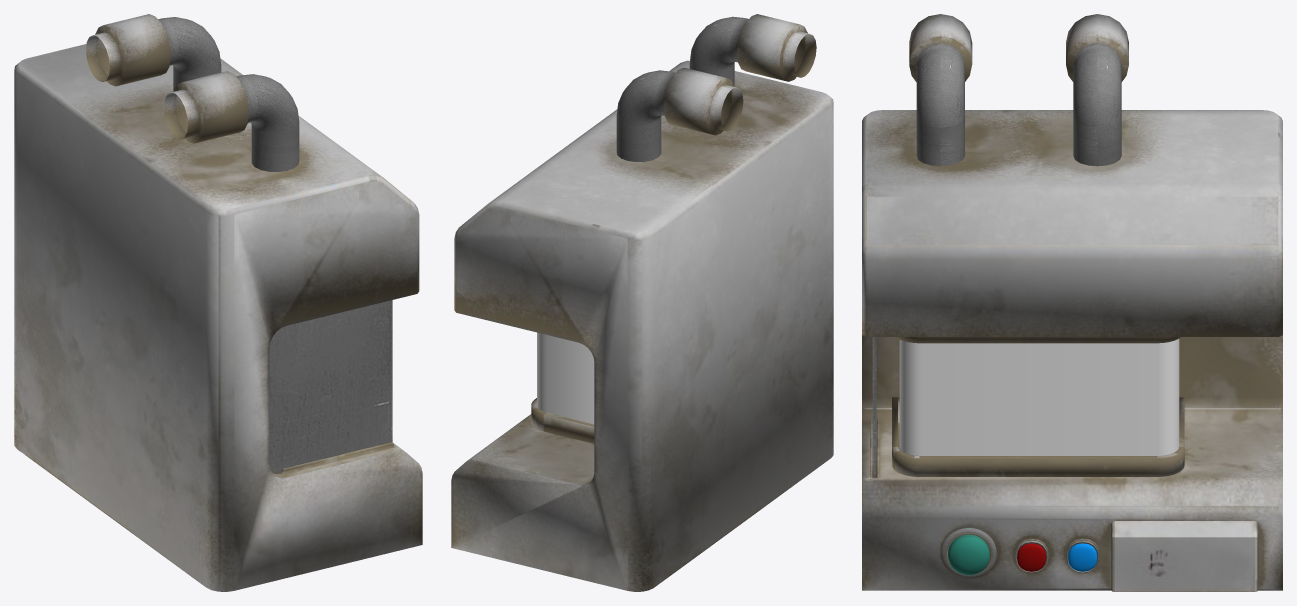
Rendered from medicine2 1.fbx.
3 renders of one model, left to right at view 1: azimuth 30°, elevation 25°; view 2: azimuth 150°, elevation 25°; view 3: azimuth 270°, elevation 25°, orthographic. The views are drawn at different scales.
Visible parts, largest first — view 1: Cube_055; view 2: Cube_055, Cube_017, Cube_055.001; view 3: Cube_055, Cube_017, Cube_034, Cube_055.001, Cube_037, Cube_036, Cube_035.001.
Part boxes in pixels (bbox=[...]): Cube_055: bbox=[14, 14, 422, 591]; Cube_055: bbox=[451, 14, 833, 591]; Cube_017: bbox=[537, 332, 594, 424]; Cube_055.001: bbox=[531, 398, 594, 443]; Cube_055: bbox=[862, 14, 1282, 590]; Cube_017: bbox=[899, 339, 1179, 455]; Cube_034: bbox=[1111, 521, 1258, 591]; Cube_055.001: bbox=[892, 337, 1184, 476]; Cube_037: bbox=[941, 528, 996, 578]; Cube_036: bbox=[1014, 538, 1048, 571]; Cube_035.001: bbox=[1068, 543, 1097, 571].
Size of the model in its own units: 144 by 297 by 235.
